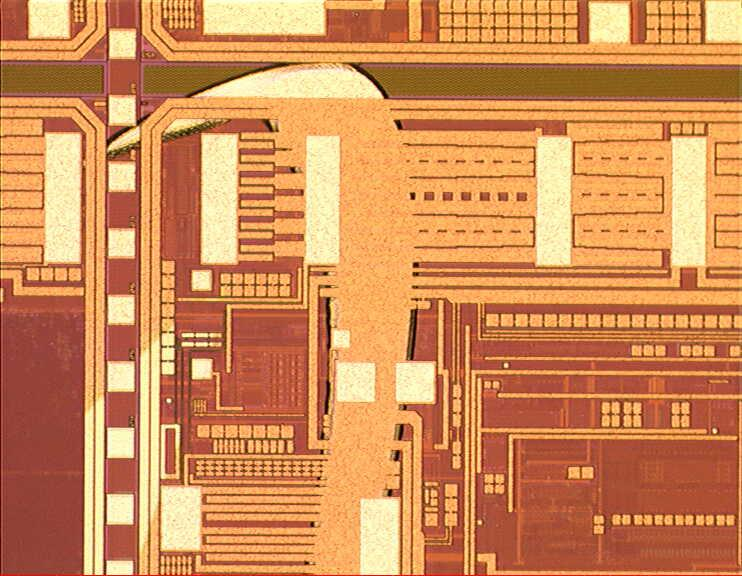COATING BAD: (81, 64, 421, 575)
